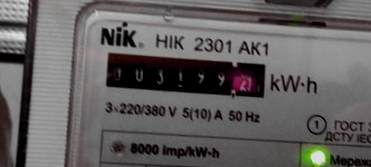0: (111, 62, 125, 82), (134, 63, 146, 82)
1: (176, 62, 186, 82)
3: (155, 66, 165, 85)
6: (239, 77, 249, 94)
9: (216, 69, 227, 87), (196, 66, 206, 84)
screen: (100, 43, 274, 109)
